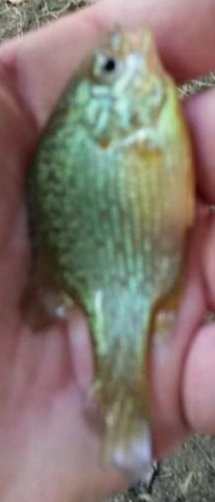Lepomis gibbosus: (20, 20, 195, 482)
